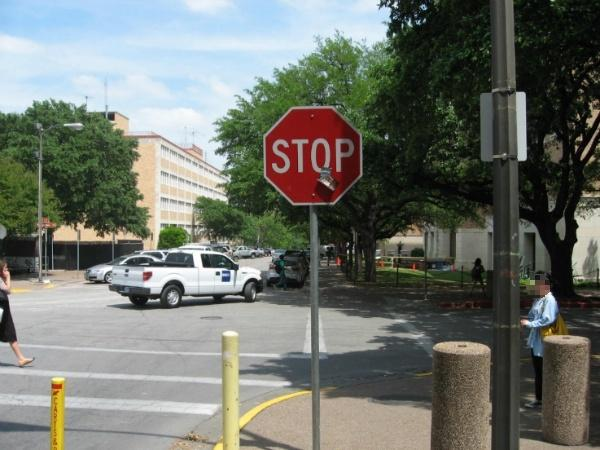Pole: (309, 215, 320, 447)
Sign: (264, 105, 363, 206)
